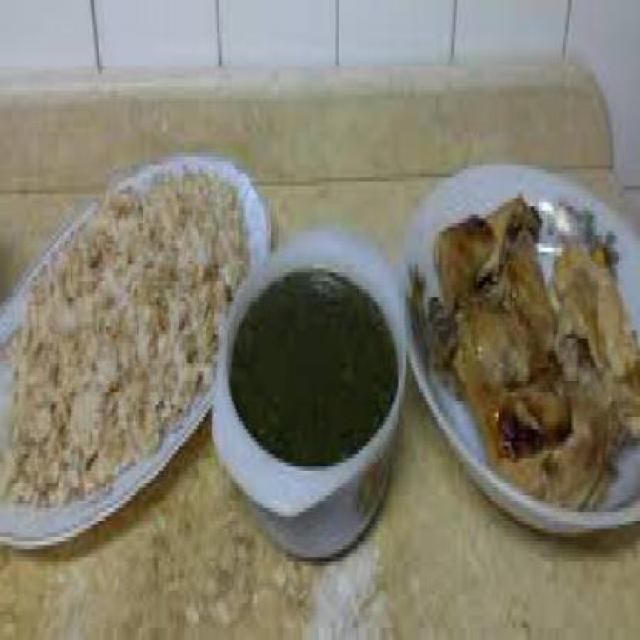fried rice: (2, 148, 240, 512)
molokhia: (227, 260, 401, 495)
